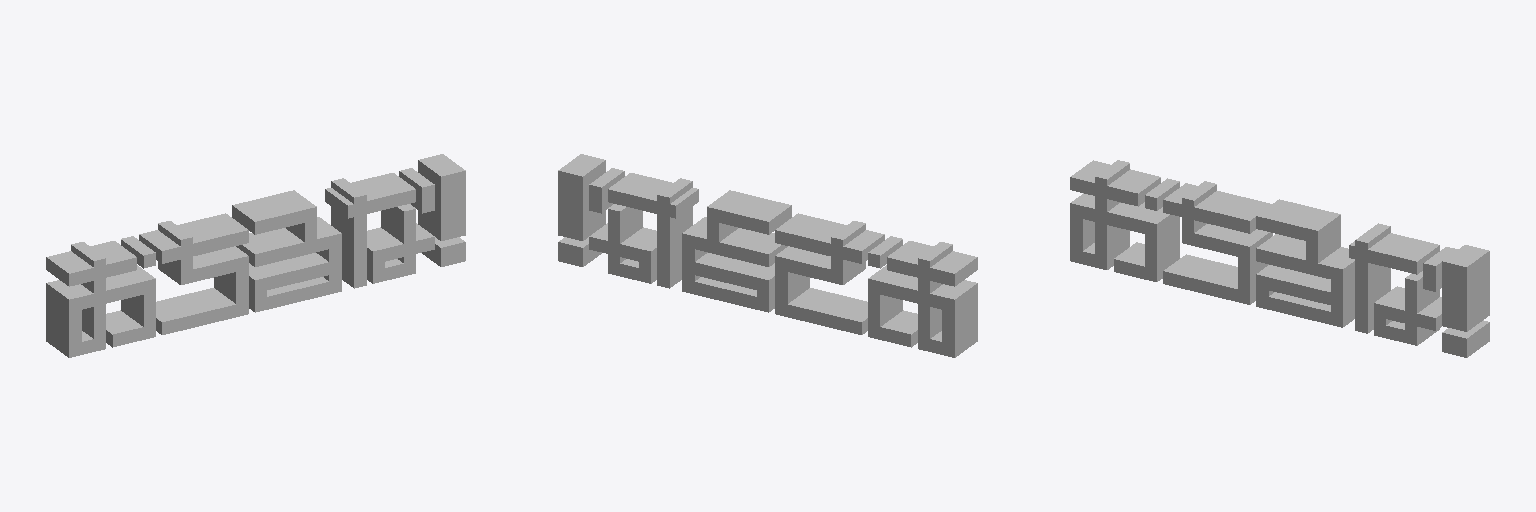
File: DoNotFallText.obj
The picture shows the model from 3 angles: view 1: azimuth 30°, elevation 25°; view 2: azimuth 150°, elevation 25°; view 3: azimuth 330°, elevation 25°; orthographic projection.
Parts seen in each view (by area): view 1: テキスト; view 2: テキスト; view 3: テキスト.
Part boxes in pixels (x1,y1,x2,y2): テキスト: (46,154,465,357); テキスト: (558,154,977,357); テキスト: (1070,160,1489,357).
Size of the model in its own units: 4 by 0.875 by 0.4.